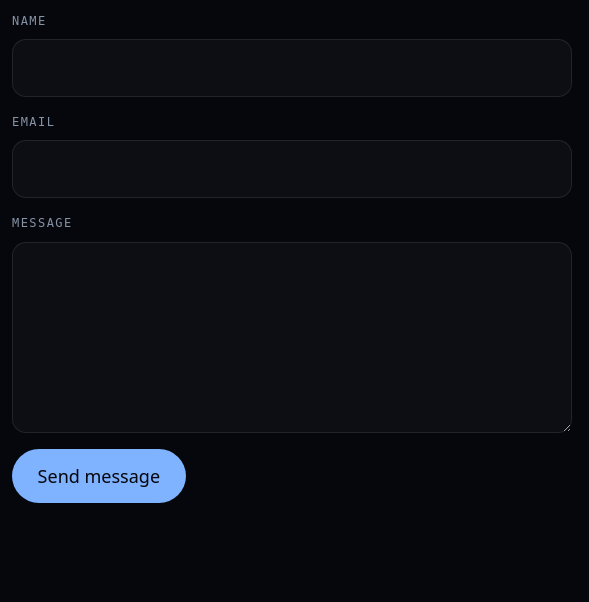
Test case: ContactForm › shows validation errors and does not submit when empty
The image size is (589, 602).
Click the button "Send message".
click(99, 476)  # box 12,449 -> 186,503
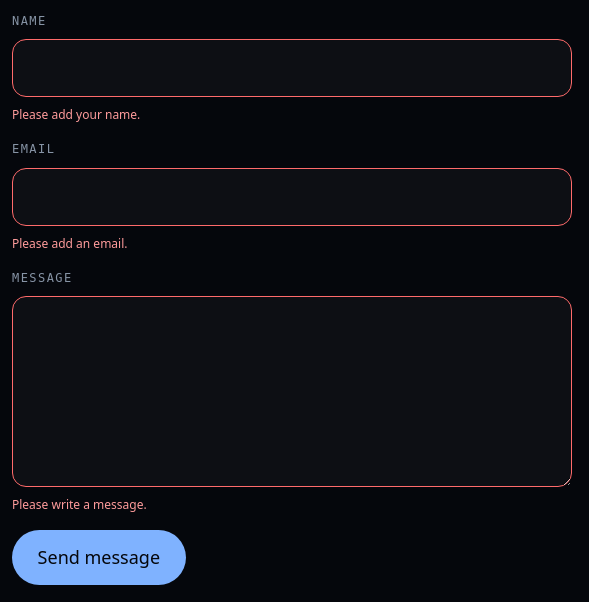
Now the text "Please add your name." is shown, box 12,106 -> 140,123
Now the text "Please add an email." is shown, box 12,234 -> 128,252
Now the text "Please write a message." is shown, box 12,496 -> 147,513
